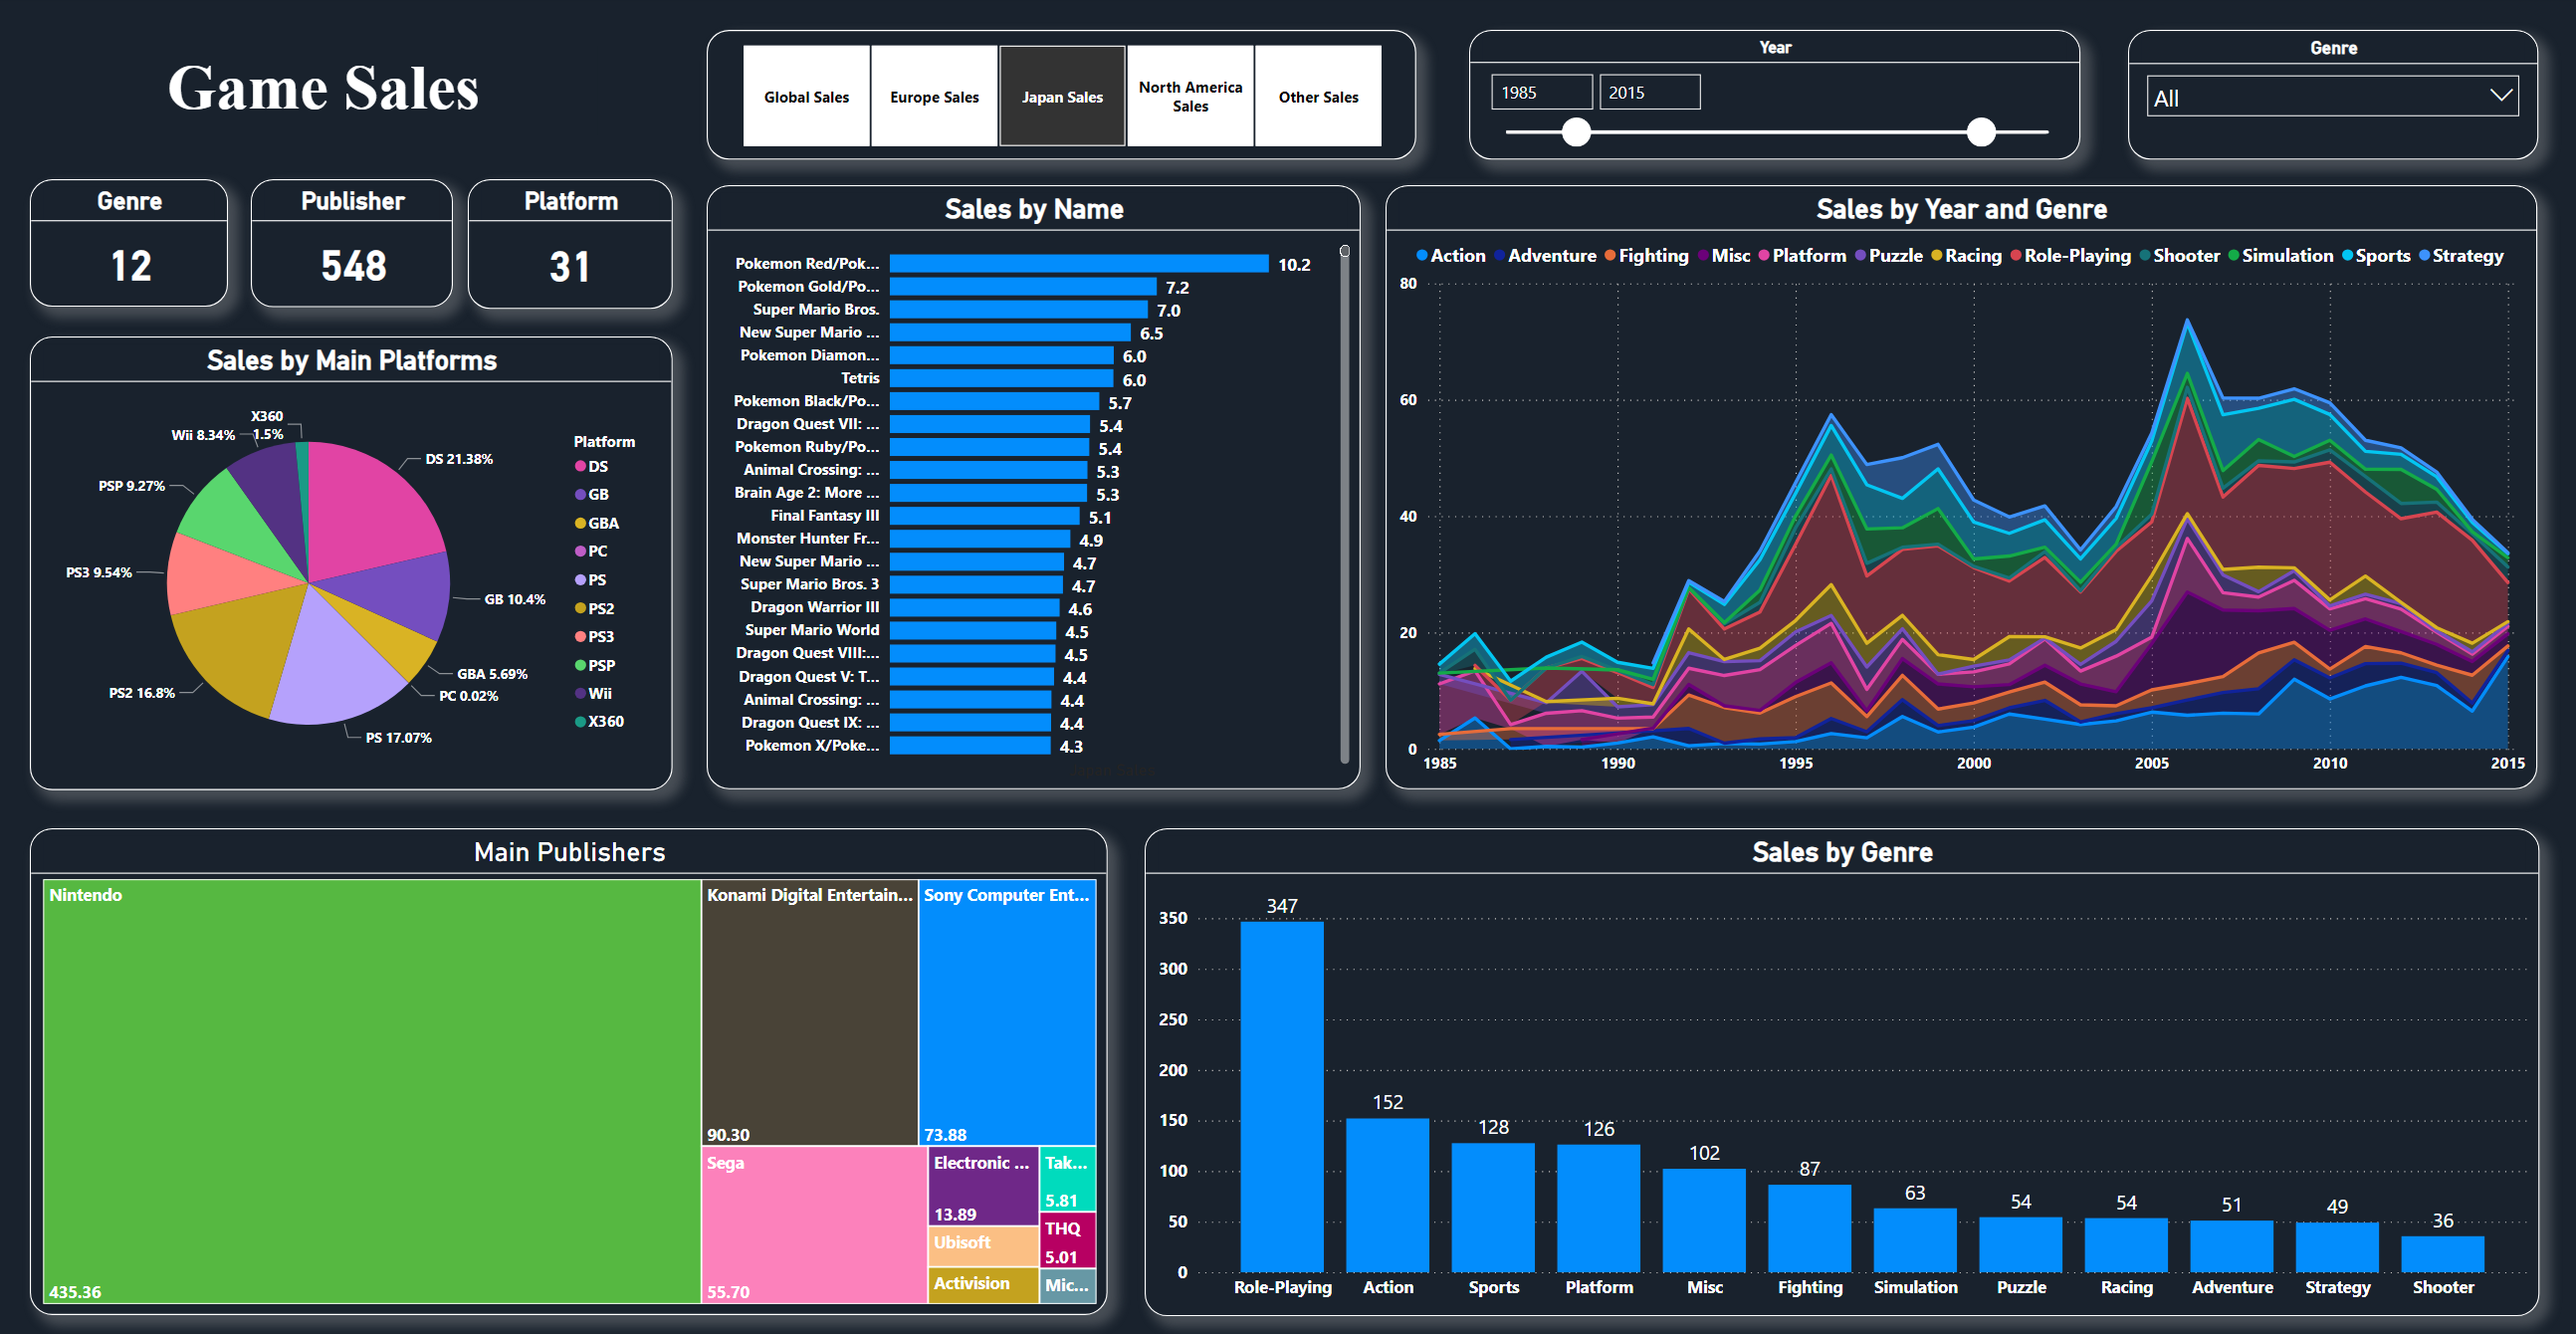

What the dashboard file says about the page in this screenshot:
{"tool":"powerbi","page":{"name":"Dashboard","canvas":[2300,1200],"ordinal":0},"visuals":[{"type":"slicer","fields":{"Values":["Sales_prm.Sales_prm"]},"box":[631.1,32.2,632.2,115.6],"z":0},{"type":"slicer","title":"Genre","fields":{"Values":["vgsales.Genre"]},"box":[1896.7,32.2,365.6,115.6],"z":1000},{"type":"clusteredColumnChart","title":"Sales by Genre","fields":{"Y":["Parameter.Japan Sales"],"Category":["vgsales.Genre"]},"box":[1021.1,743,1242.4,434.4],"z":2000},{"type":"barChart","title":"Sales by Name","fields":{"Y":["Parameter.Japan Sales"],"Category":["vgsales.Name"]},"box":[631.3,170.5,582.6,538],"z":3000},{"type":"treemap","title":"Main Publishers","fields":{"Values":["Parameter.Japan Sales"],"Group":["vgsales.Publisher"]},"box":[29,743.2,960,433.5],"z":4000},{"type":"pieChart","title":"Sales by Main Platforms","fields":{"Y":["Parameter.Japan Sales"],"Category":["vgsales.Platform"]},"box":[28.4,304.5,572.5,404],"z":5000},{"type":"slicer","title":"Year","fields":{"Values":["vgsales.Year"]},"box":[1311.1,32.2,544.4,115.6],"z":6000},{"type":"stackedAreaChart","title":"Sales by Year and Genre","fields":{"Y":["Parameter.Japan Sales"],"Category":["vgsales.Year"],"Series":["vgsales.Genre"]},"box":[1236.8,170.3,1025.8,538.1],"z":7000},{"type":"card","title":"Publisher","fields":{"Values":["Count(vgsales.Publisher)"]},"box":[224.5,164.5,180,114.2],"z":8000},{"type":"card","title":"Genre","fields":{"Values":["Count(vgsales.Genre)"]},"box":[28.4,164.4,176.6,113.7],"z":9000},{"type":"card","title":"Platform","fields":{"Values":["Count(vgsales.Platform)"]},"box":[418.2,164.4,182.7,115.7],"z":10000},{"type":"textbox","box":[45.6,45.6,487.8,78.9],"z":10001}]}

Visuals, with their boxes in screenshot pixels (x1, y1, x2, y2), scaled from the page's 2300x1200 canvas onto the 2576x1334 screenshot:
slicer - Sales_prm.Sales_prm: [x1=707, y1=36, x2=1414, y2=164]
"Genre" slicer: [x1=2124, y1=36, x2=2534, y2=164]
"Sales by Genre" clusteredColumnChart: [x1=1144, y1=826, x2=2535, y2=1309]
"Sales by Name" barChart: [x1=707, y1=189, x2=1360, y2=787]
"Main Publishers" treemap: [x1=33, y1=826, x2=1108, y2=1308]
"Sales by Main Platforms" pieChart: [x1=32, y1=338, x2=673, y2=787]
"Year" slicer: [x1=1468, y1=36, x2=2078, y2=164]
"Sales by Year and Genre" stackedAreaChart: [x1=1386, y1=189, x2=2534, y2=787]
"Publisher" card: [x1=252, y1=183, x2=453, y2=310]
"Genre" card: [x1=32, y1=183, x2=230, y2=310]
"Platform" card: [x1=469, y1=183, x2=673, y2=312]
textbox: [x1=51, y1=51, x2=597, y2=138]
